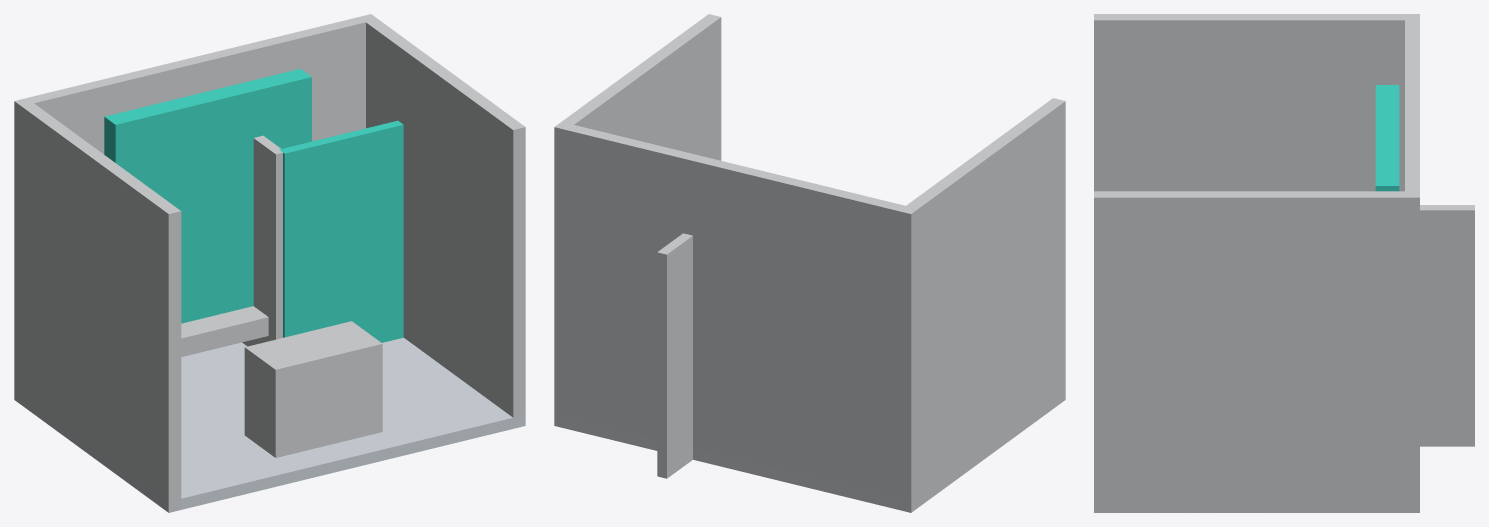
3 renders of one model, left to right at view 1: azimuth 30°, elevation 25°; view 2: azimuth 150°, elevation 25°; view 3: azimuth 270°, elevation 25°, orthographic. The views are drawn at different scales.
Parts seen in each view (by area): view 1: Exhibition Booth Concept; view 2: Exhibition Booth Concept; view 3: Exhibition Booth Concept.
Boxes of the visible parts, x1,y1,x2,y2 form: Exhibition Booth Concept: (14,14,525,512); Exhibition Booth Concept: (554,14,1065,512); Exhibition Booth Concept: (1094,14,1474,512).
Size of the model in its own units: 4 by 3.2 by 3.51.
